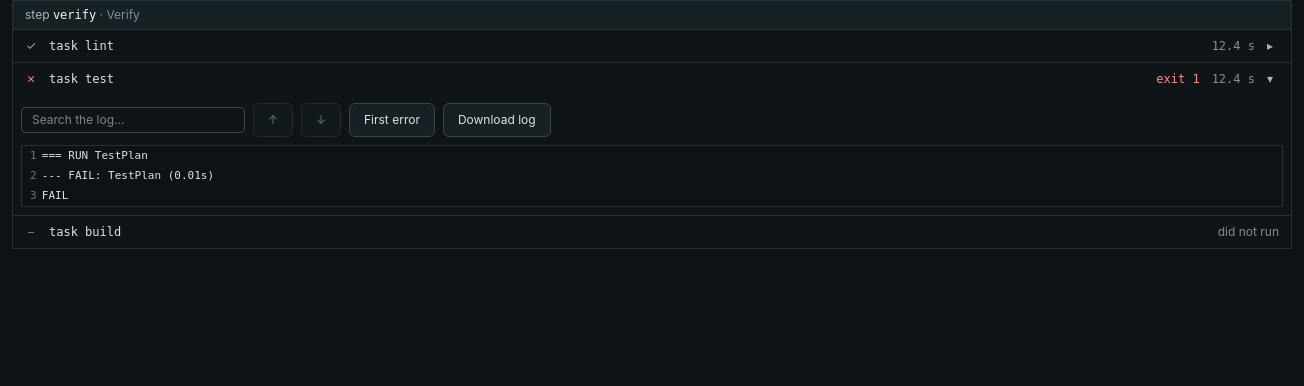
Scenario: ChecksView › opens a failed check and leaves a passed one closed
Check: the text "exit 1" is shown, box [1156,71,1200,87]
Check: the text "--- FAIL: TestPlan (0.01s)" is shown, box [42,169,214,182]
What coordinates should you click on to do the following:
click the button "✓ task lint 12.4 s ▸"
I would click on:
 (82, 46)
Its box is [13,30,1291,62].
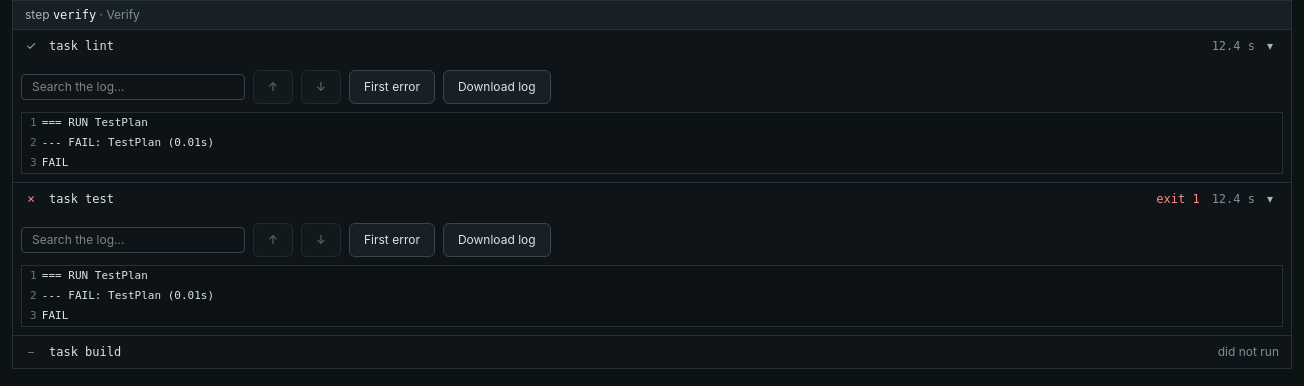
Check: the element showing "1 === RUN TestPlan 2 --- FAIL: TestPlan (0.01s) 3 FAIL" is shown, box [21,112,1283,174]
